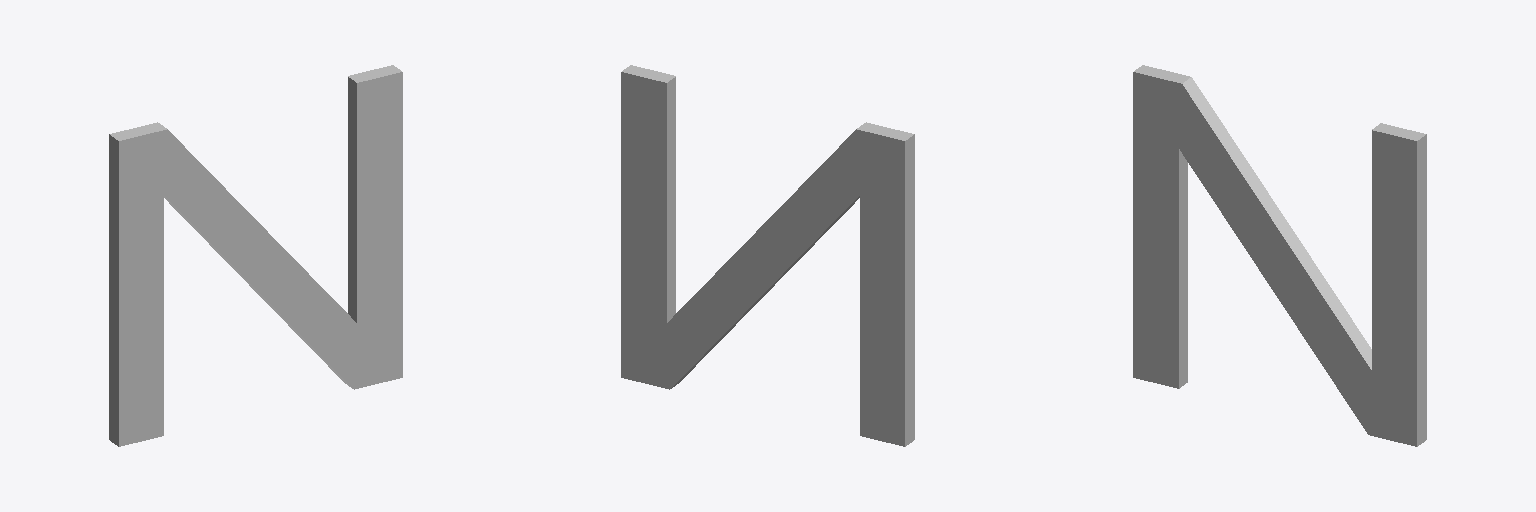
File: original-97.obj
3 renders of one model, left to right at view 1: azimuth 30°, elevation 25°; view 2: azimuth 150°, elevation 25°; view 3: azimuth 330°, elevation 25°, orthographic.
Parts seen in each view (by area): view 1: #ID708; view 2: #ID708; view 3: #ID708.
Boxes of the visible parts, <box> form: #ID708: <box>109,65,402,446</box>; #ID708: <box>621,65,914,446</box>; #ID708: <box>1133,65,1426,446</box>.
Size of the model in its own units: 0.0407 by 0.0419 by 0.0024.